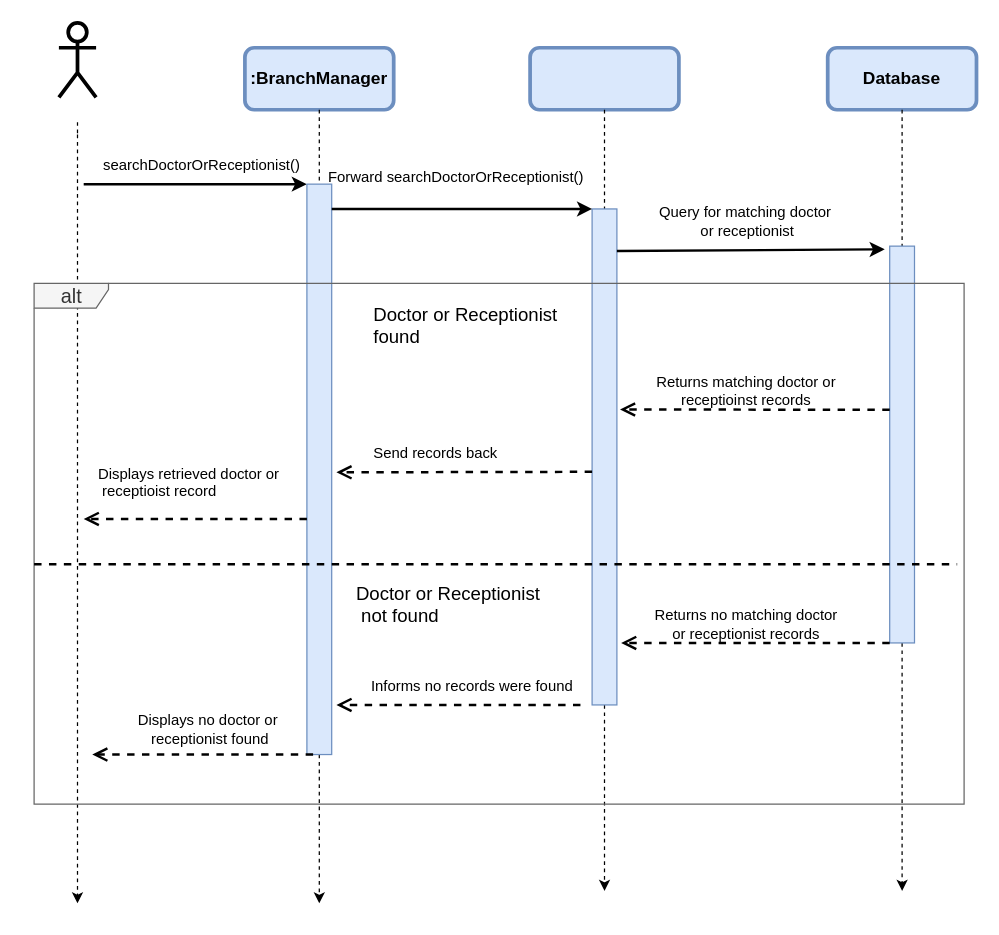
The diagram is 999 pixels wide and 935 high, and some of its shapes have lost their labels. The centre of each missing label's shape, as x and y in pixels:
BranchManager: the point at 76,59
Server: the point at 604,78
